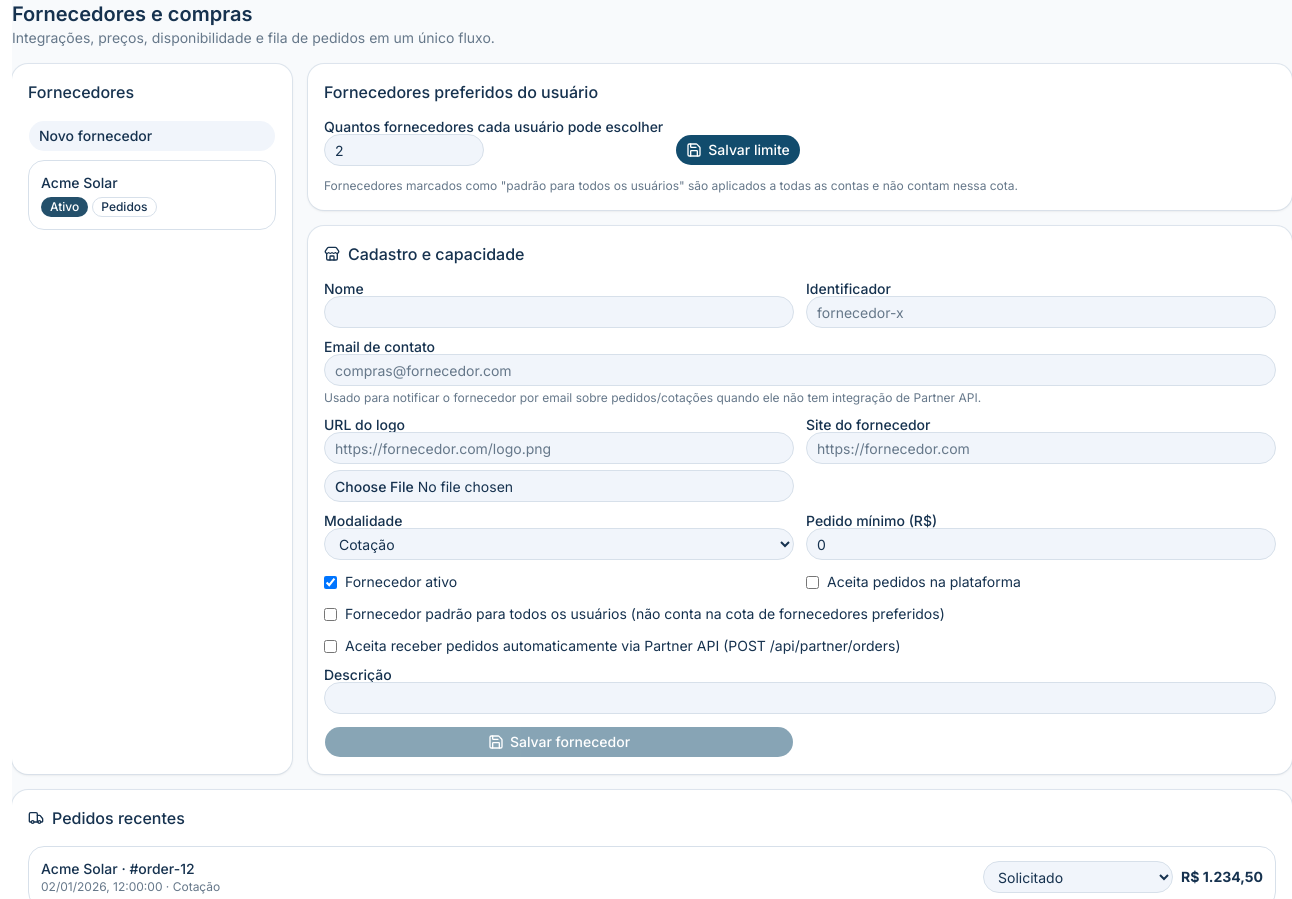
Test: SuppliersEditor: SKU mapping › shows the offer error message when the manual offer insert fails after a successful mapping insert
Click the text "Acme Solar": click(79, 182) [41,174,118,191]
(page scrolled)
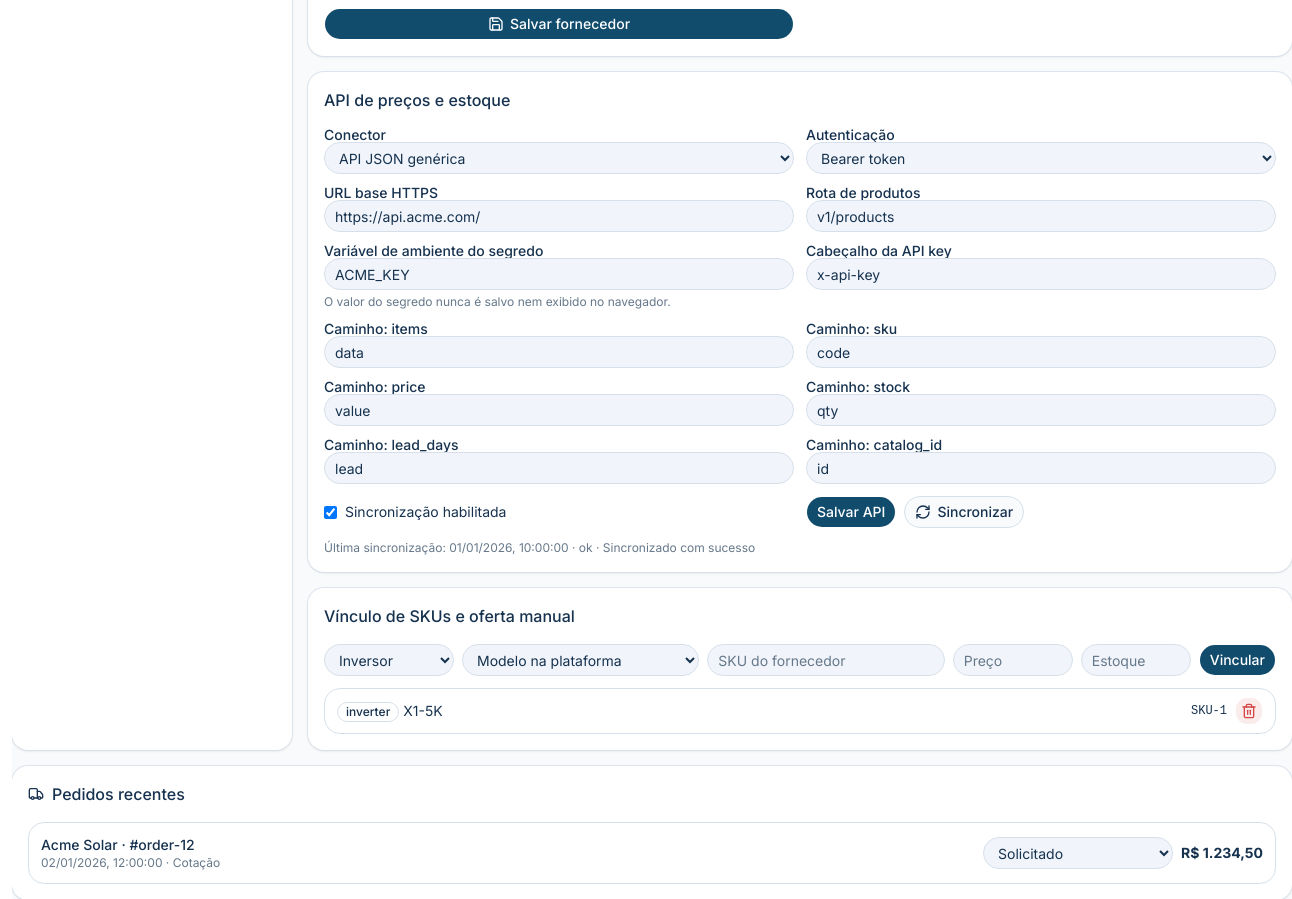
Select "X3-8K" in the dropdown named "Modelo na plataforma": (581, 660) [462,644,699,676]
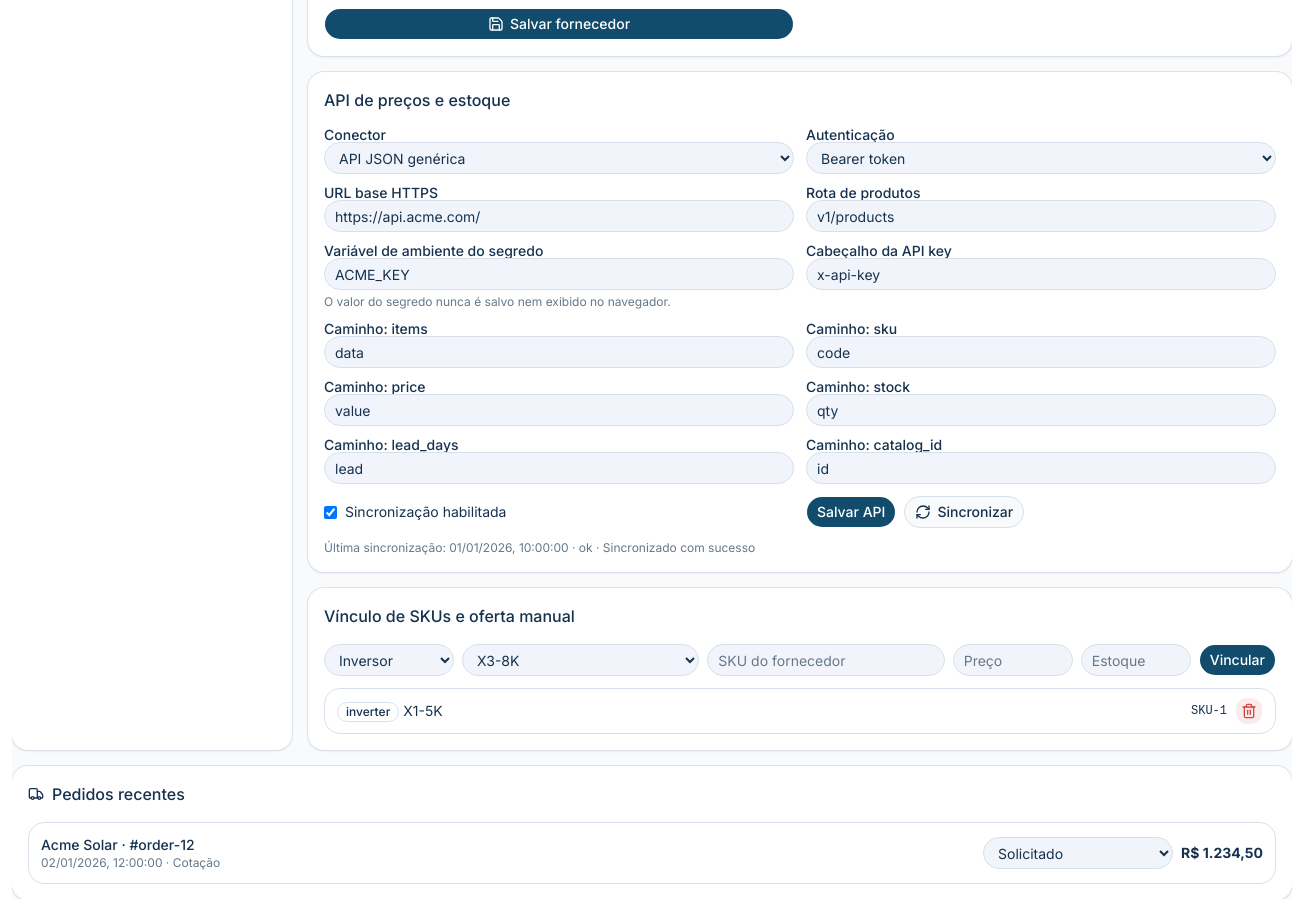
In the field with placeholder "SKU do fornecedor": (826, 660) [707,644,945,676], type "SKU-2"
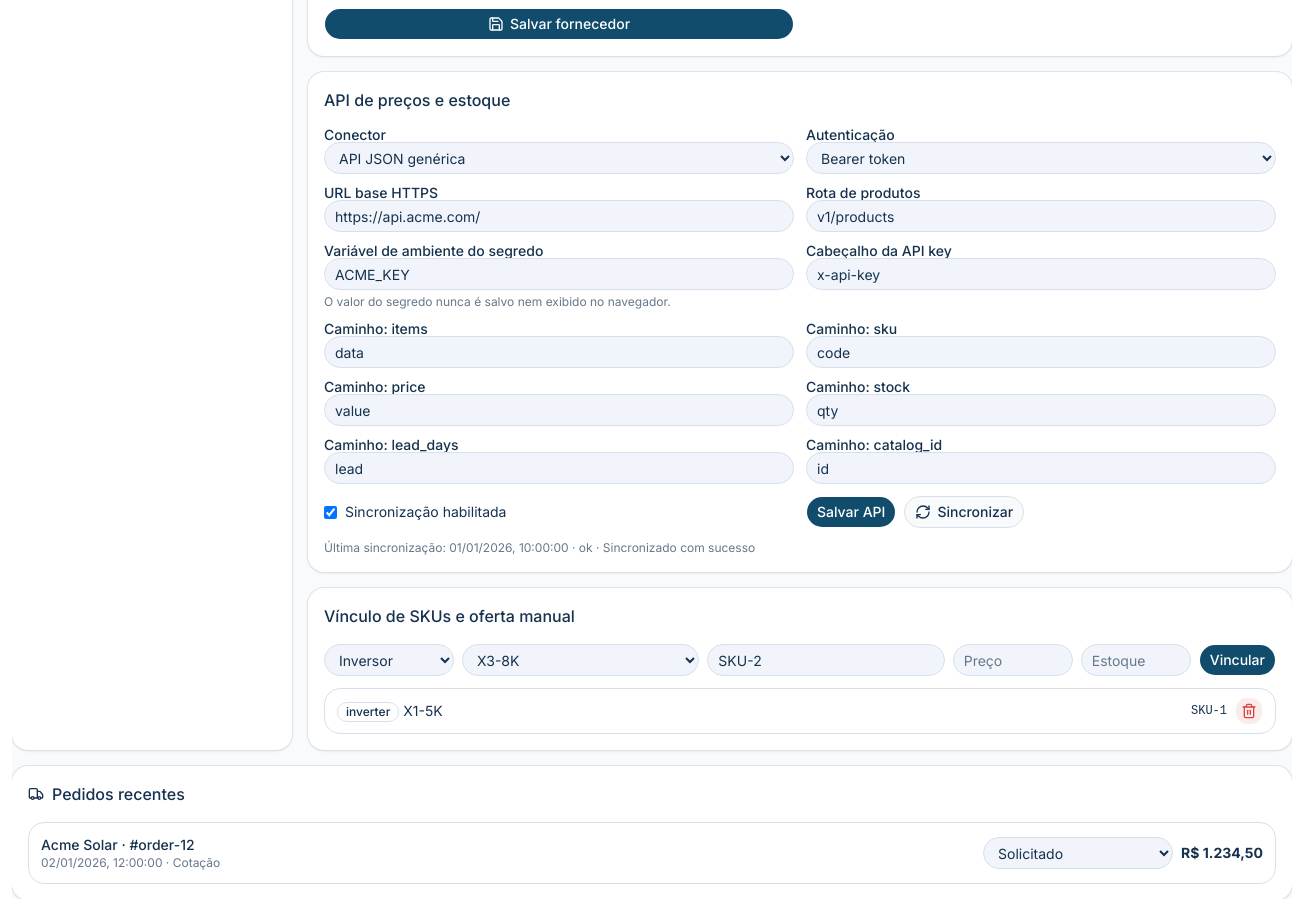
In the number field named "Preço manual": (1013, 660) [953,644,1073,676], type "10"
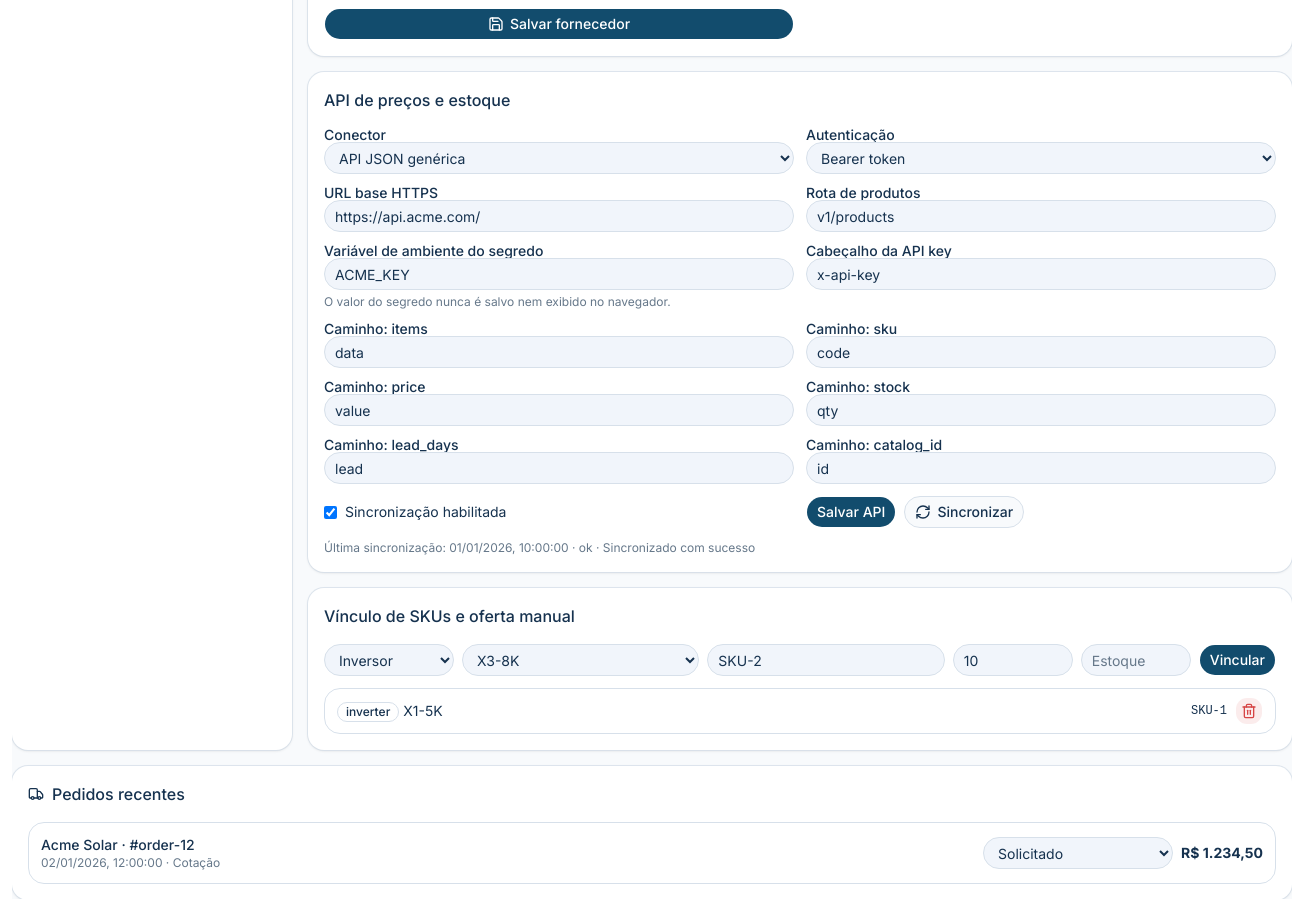
Click the button "Vincular": click(1237, 660) [1199,644,1276,676]
(page scrolled)
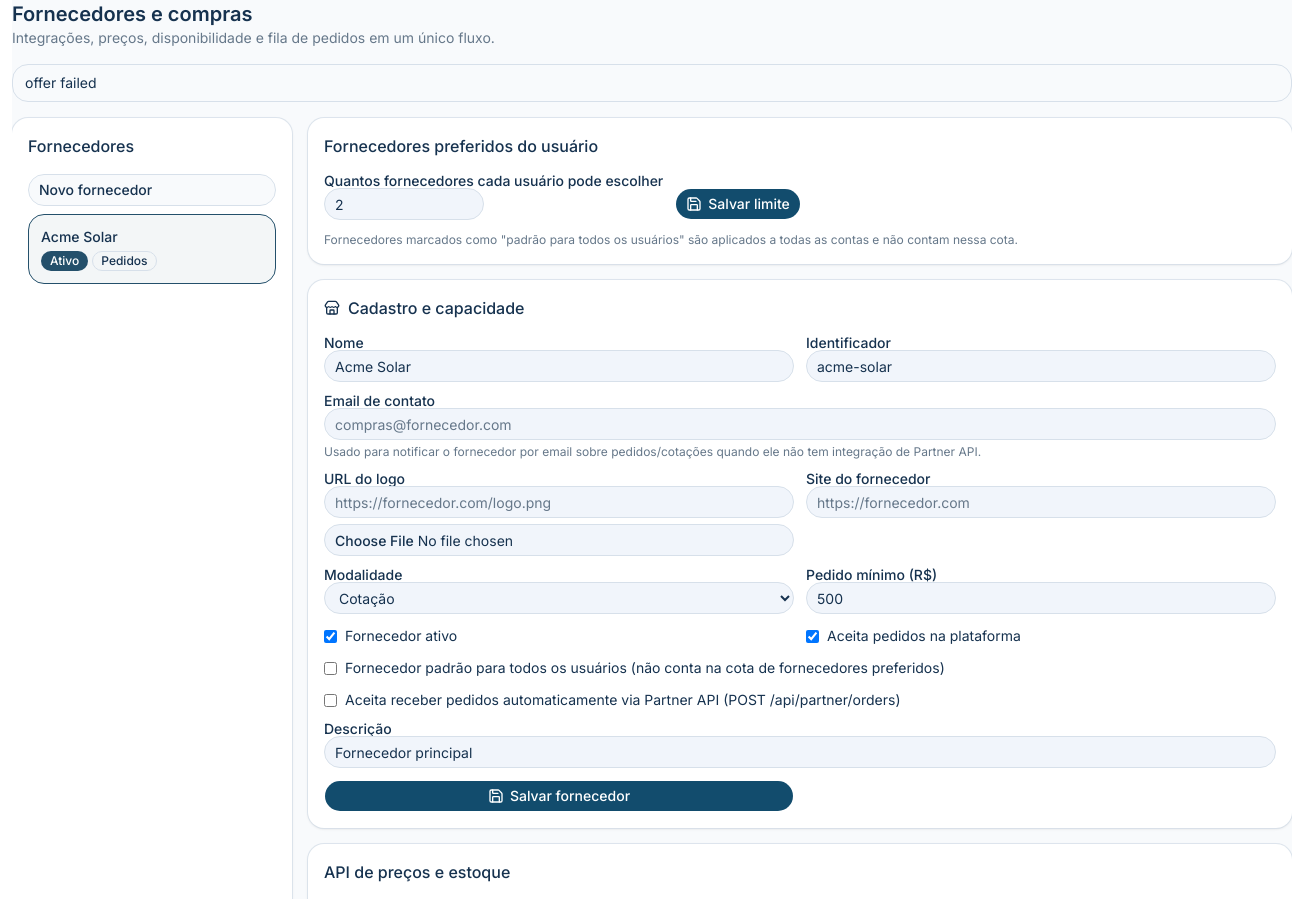
expect the message reads "offer failed": met, box [25,74,96,91]
